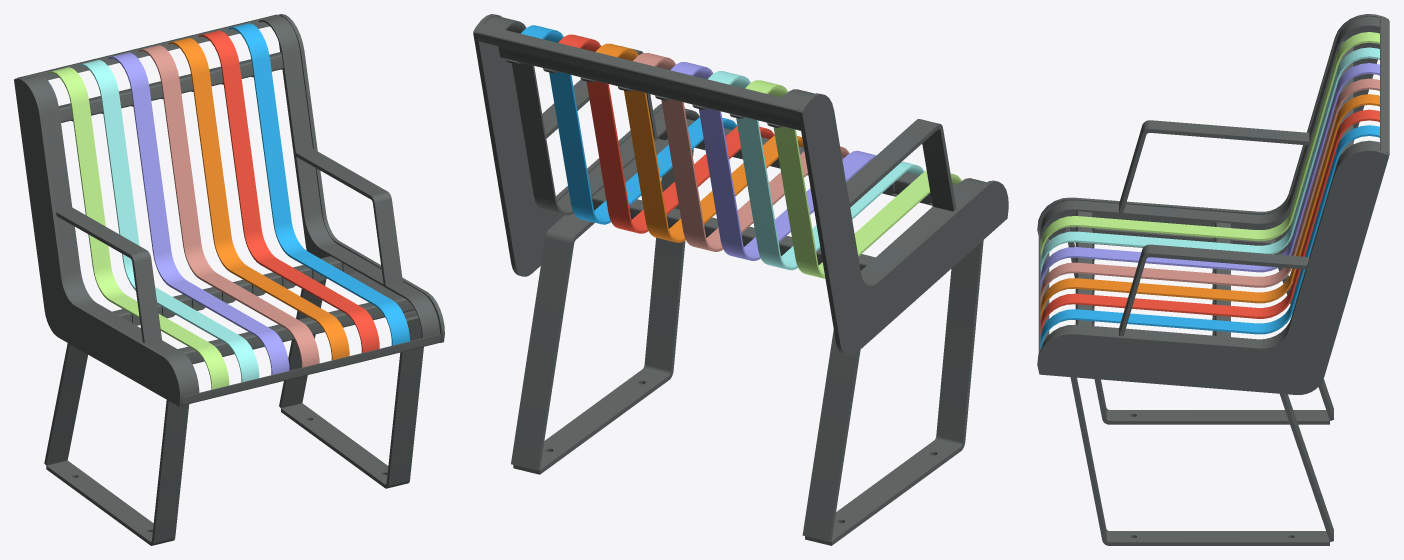
The model's file is chair.FBX.
The picture shows the model from 3 angles, left to right: view 1: azimuth 30°, elevation 25°; view 2: azimuth 150°, elevation 25°; view 3: azimuth 270°, elevation 25°; orthographic projection. The views are drawn at different scales.
Visible parts, largest first — view 1: Line003, Line006, Line005, Line001, Line002, Line010, Line013, Line011, Line009, Line012, Line007, Line008 (+6 smaller); view 2: Line003, Line002, Line001, Line004, Line005, Line006, Line014, Line007, Line013, Line012, Line011, Line008 (+4 smaller); view 3: Line004, Line005, Line002, Line006, Line001, Line007, Line011, Line012, Line013, Line010, Line003, Line008 (+6 smaller).
Boxes of the visible parts, x1=… form: Line003: x1=14, y1=78, x2=183, y2=406; Line006: x1=258, y1=16, x2=439, y2=338; Line005: x1=24, y1=74, x2=199, y2=396; Line001: x1=44, y1=343, x2=189, y2=545; Line002: x1=279, y1=256, x2=423, y2=488; Line010: x1=138, y1=45, x2=319, y2=367; Line013: x1=228, y1=23, x2=409, y2=345; Line011: x1=168, y1=38, x2=349, y2=360; Line009: x1=108, y1=52, x2=289, y2=374; Line012: x1=198, y1=30, x2=379, y2=352; Line007: x1=48, y1=67, x2=229, y2=389; Line008: x1=78, y1=60, x2=259, y2=382; Line003: x1=798, y1=93, x2=1008, y2=355; Line002: x1=511, y1=138, x2=693, y2=474; Line001: x1=802, y1=240, x2=983, y2=545; Line004: x1=473, y1=14, x2=662, y2=276; Line005: x1=783, y1=89, x2=986, y2=284; Line006: x1=483, y1=16, x2=699, y2=215; Line014: x1=477, y1=24, x2=802, y2=119; Line007: x1=745, y1=80, x2=961, y2=278; Line013: x1=521, y1=25, x2=737, y2=224; Line012: x1=558, y1=34, x2=774, y2=233; Line011: x1=596, y1=43, x2=803, y2=242; Line008: x1=708, y1=71, x2=924, y2=270; Line004: x1=1037, y1=149, x2=1388, y2=394; Line005: x1=1040, y1=16, x2=1379, y2=241; Line002: x1=1070, y1=377, x2=1333, y2=545; Line006: x1=1042, y1=140, x2=1379, y2=346; Line001: x1=1066, y1=226, x2=1333, y2=424; Line007: x1=1040, y1=32, x2=1379, y2=256; Line011: x1=1040, y1=94, x2=1379, y2=319; Line012: x1=1040, y1=109, x2=1379, y2=334; Line013: x1=1040, y1=125, x2=1379, y2=348; Line010: x1=1040, y1=78, x2=1379, y2=303; Line003: x1=1037, y1=14, x2=1388, y2=255; Line008: x1=1040, y1=47, x2=1379, y2=272.
Size of the model in its own units: 616 by 835 by 671.
